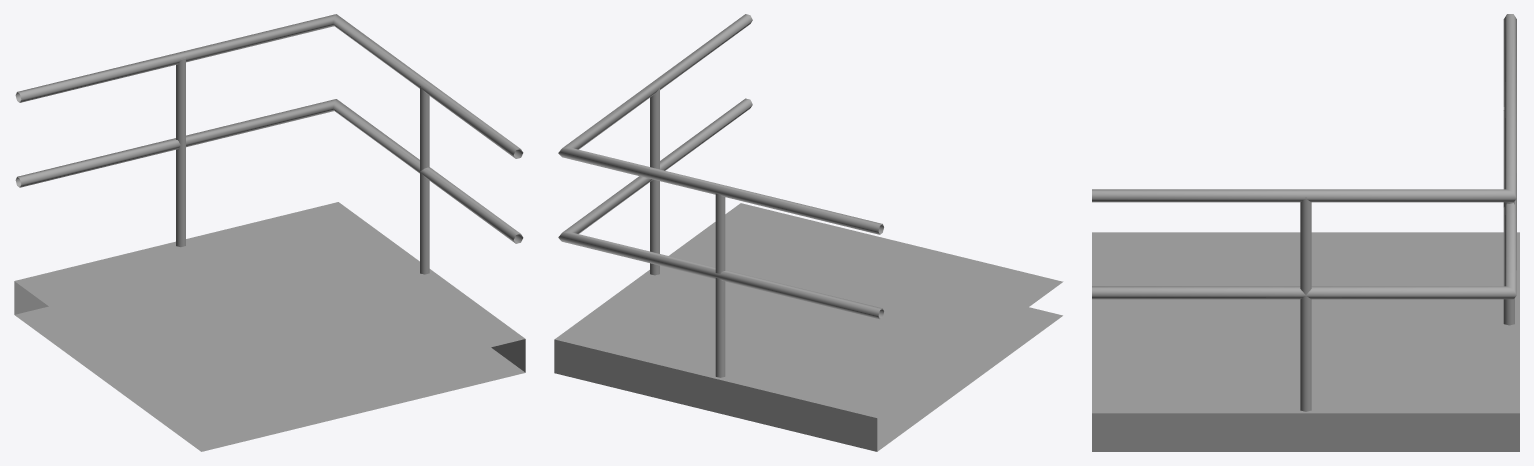
File: SM_Railing_Turn_200.FBX
The picture shows the model from 3 angles, left to right: view 1: azimuth 30°, elevation 25°; view 2: azimuth 150°, elevation 25°; view 3: azimuth 270°, elevation 25°; orthographic projection. The views are drawn at different scales.
Visible parts, largest first — view 1: SM_Railing_Turn_200; view 2: SM_Railing_Turn_200; view 3: SM_Railing_Turn_200.
Part boxes in pixels (left/top/right/bottom): SM_Railing_Turn_200: left=14, top=14, right=525, bottom=451; SM_Railing_Turn_200: left=554, top=14, right=1063, bottom=451; SM_Railing_Turn_200: left=1092, top=14, right=1519, bottom=451.
Size of the model in its own units: 200 by 200 by 133.
